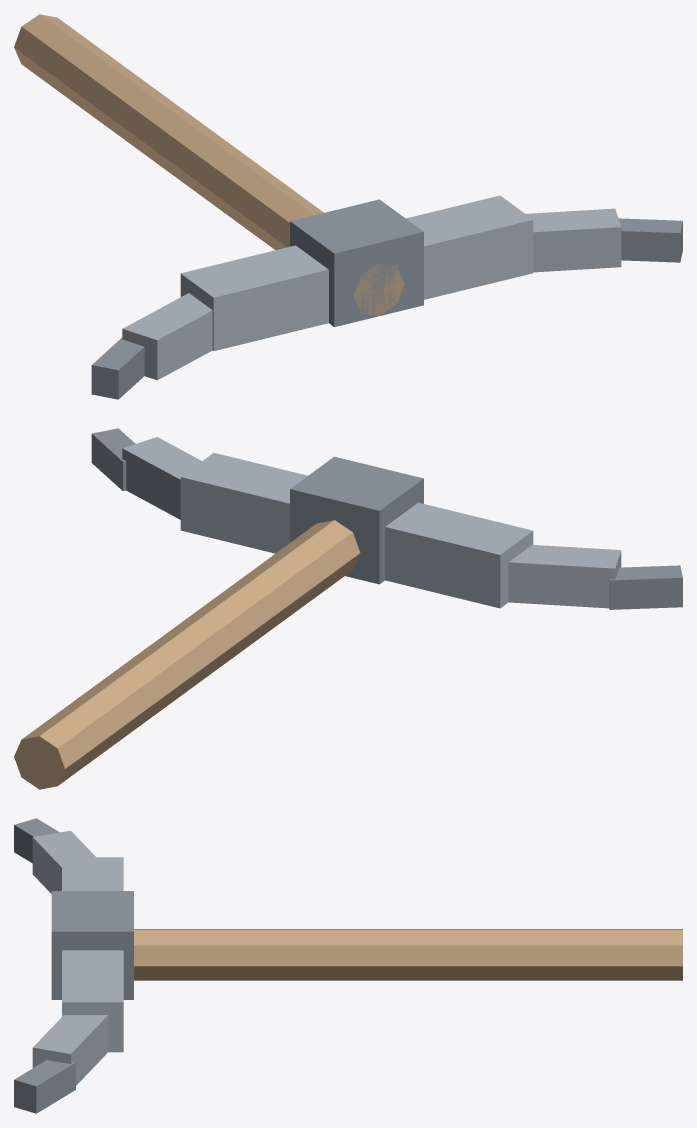
The model's file is item_iron_pickaxe.glb.
3 views of the same model, one above another, from view 1: azimuth 30°, elevation 25°; view 2: azimuth 150°, elevation 25°; view 3: azimuth 270°, elevation 25° (orthographic). The views are drawn at different scales.
Parts seen in each view (by area): view 1: iron, wood, iron_dark; view 2: iron, wood, iron_dark; view 3: wood, iron, iron_dark.
Boxes of the visible parts, x1=… form: iron: x1=122, y1=195, x2=621, y2=380; wood: x1=14, y1=14, x2=404, y2=316; iron_dark: x1=91, y1=199, x2=682, y2=399; iron: x1=122, y1=437, x2=621, y2=608; wood: x1=14, y1=520, x2=360, y2=789; iron_dark: x1=91, y1=428, x2=682, y2=609; wood: x1=134, y1=929, x2=682, y2=980; iron: x1=32, y1=830, x2=123, y2=1085; iron_dark: x1=14, y1=818, x2=133, y2=1113.
Bounding box in the file's own units: 0.4624 × 0.055 × 0.4875.
